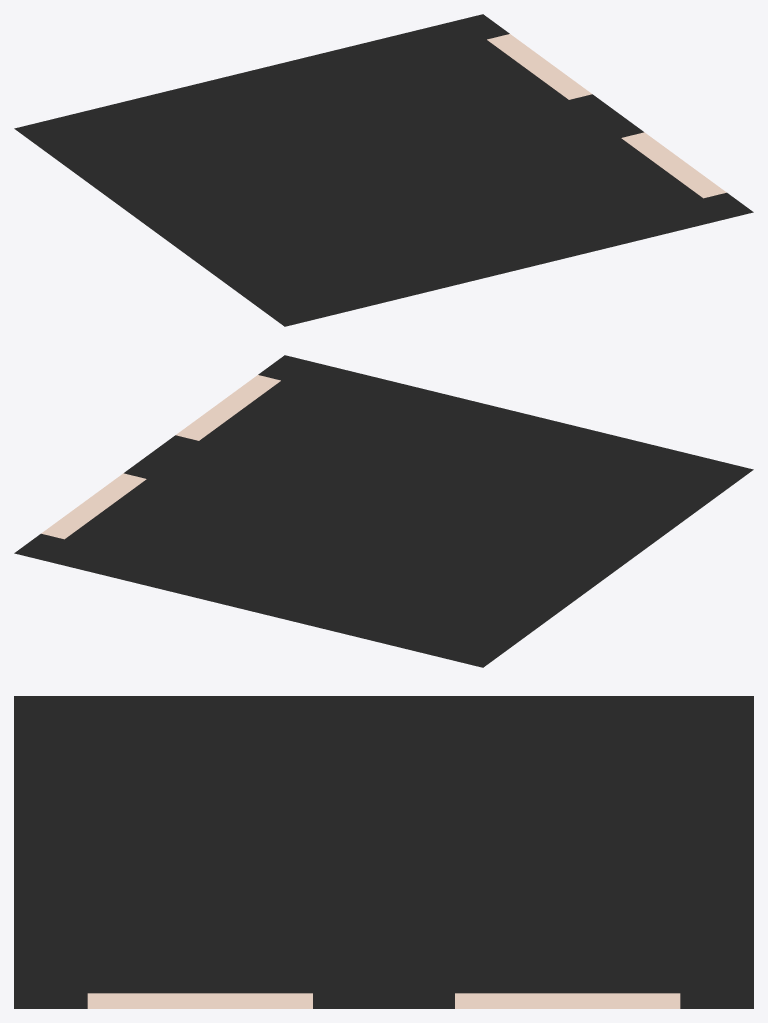
Rendered from CalleMarcas.fbx.
3 renders of one model, top to bottom at view 1: azimuth 30°, elevation 25°; view 2: azimuth 150°, elevation 25°; view 3: azimuth 270°, elevation 25°, orthographic. The views are drawn at different scales.
Visible parts, largest first — view 1: road; view 2: road; view 3: road.
Part boxes in pixels (box(x1,y1,x2,y2)): road: box(14, 14, 753, 326); road: box(14, 355, 753, 667); road: box(14, 696, 753, 1008).
Bounding box in the file's own units: 502 × 8.18e-05 × 502.
